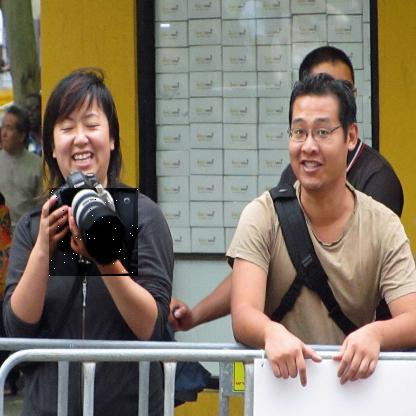Camera: (50, 189, 140, 278)
